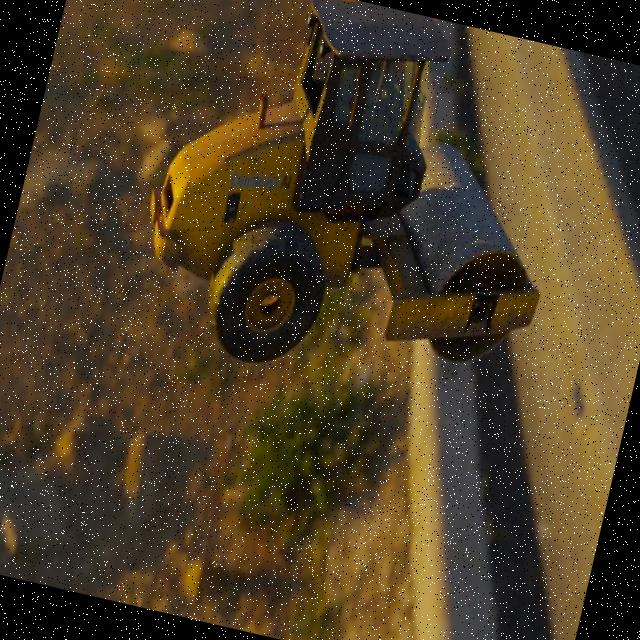Roller: (118, 0, 596, 423)
